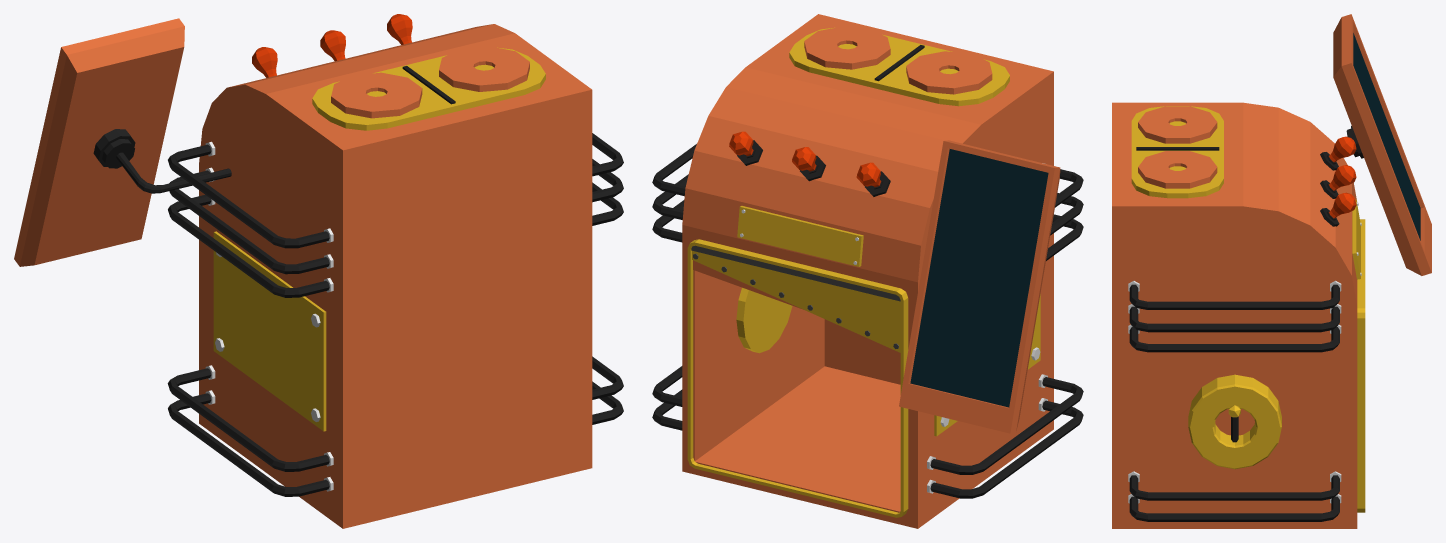
File: machine.fbx
The picture shows the model from 3 angles, left to right: view 1: azimuth 30°, elevation 25°; view 2: azimuth 150°, elevation 25°; view 3: azimuth 270°, elevation 25°; orthographic projection. The views are drawn at different scales.
Visible parts, largest first — view 1: Cube.001, Cube.006, Cube.003, Cylinder.007, Cylinder.010, Cylinder.011, Cylinder.009, Cylinder.021, Cylinder.008; view 2: Cube.001, Cube.006, Plane.002, Cube.002, Cube.005, Cylinder.012, Cylinder.010, Cylinder.011, Plane.001, Cylinder.006, Cube.003, Cylinder.004 (+7 smaller); view 3: Cube.001, Cube.006, Cylinder.012, Cube.002, Cylinder.002, Cylinder.006, Cylinder.004, Cylinder.005, Cylinder.003, Cube.005, Cube.012, Cube.008 (+1 smaller).
Part boxes in pixels (x1,y1,x2,y2): Cube.001: (199,24,592,528); Cube.006: (14,18,184,266); Cube.003: (213,231,326,431); Cylinder.007: (168,141,333,248); Cylinder.010: (167,365,333,471); Cylinder.011: (168,390,333,496); Cylinder.009: (168,194,333,297); Cylinder.021: (93,129,231,193); Cylinder.008: (169,167,333,274); Cube.001: (682,14,1053,528); Cube.006: (899,140,1060,433); Plane.002: (692,250,900,352); Cube.002: (687,239,908,517); Cube.005: (737,206,863,266); Cylinder.012: (736,287,792,353); Cylinder.010: (927,374,1083,474); Cylinder.011: (927,398,1083,498); Plane.001: (691,245,900,301); Cylinder.006: (652,144,696,196); Cube.003: (934,294,1040,436); Cylinder.004: (652,366,682,406); Cube.001: (1112,102,1357,528); Cube.006: (1333,14,1431,275); Cylinder.012: (1188,374,1281,469); Cube.002: (1357,219,1365,512); Cylinder.002: (1128,304,1341,332); Cylinder.006: (1128,280,1341,309); Cylinder.004: (1128,471,1341,500); Cylinder.005: (1128,494,1341,521); Cylinder.003: (1128,324,1341,352); Cube.005: (1352,199,1360,279); Cube.012: (1329,136,1356,162); Cube.008: (1329,192,1356,218).
Bounding box in the file's own units: 360 × 317 × 261.
